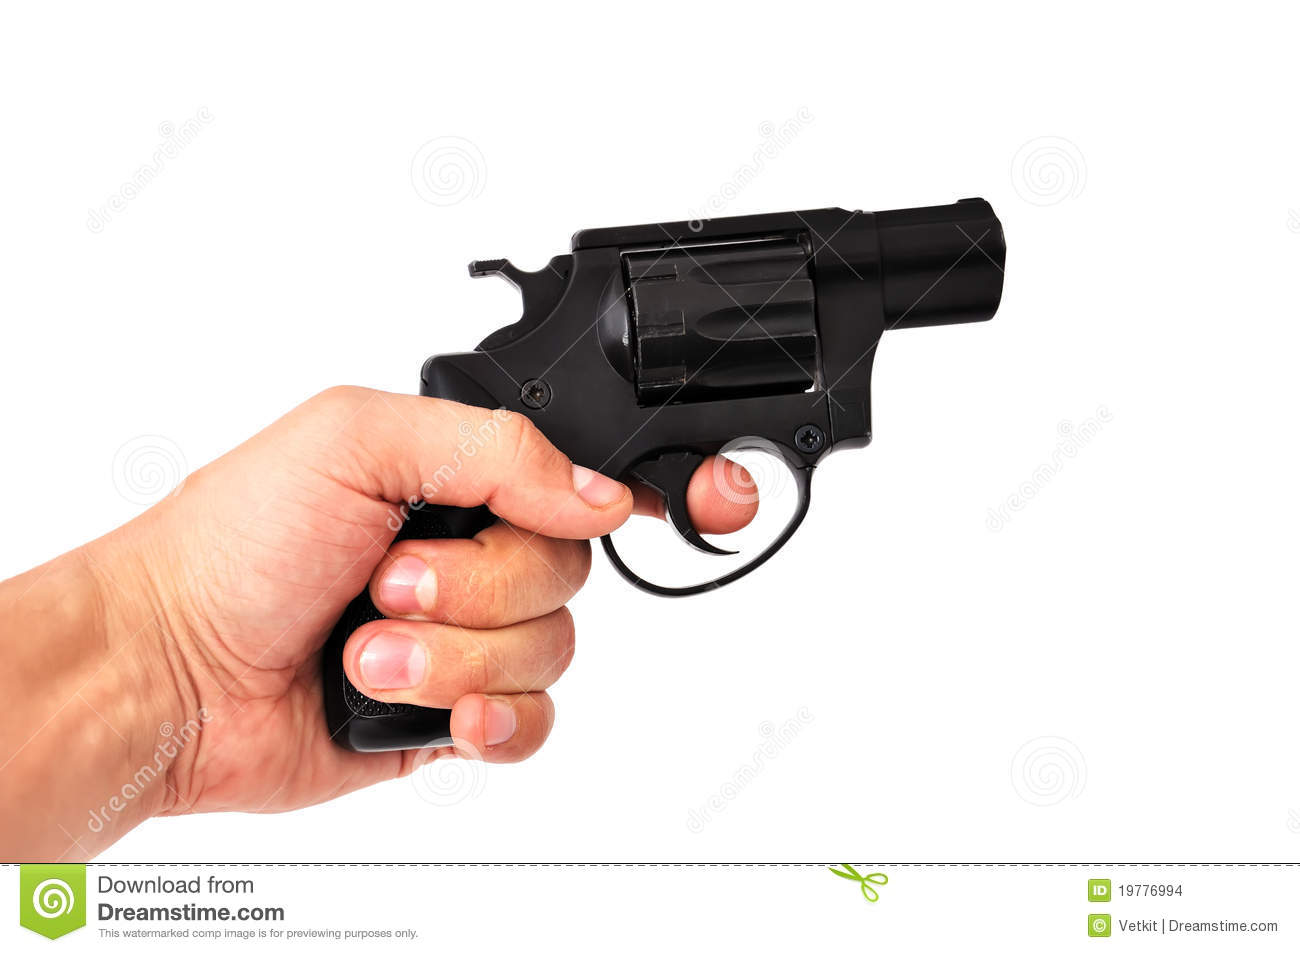Revolver: (355, 131, 1032, 752)
